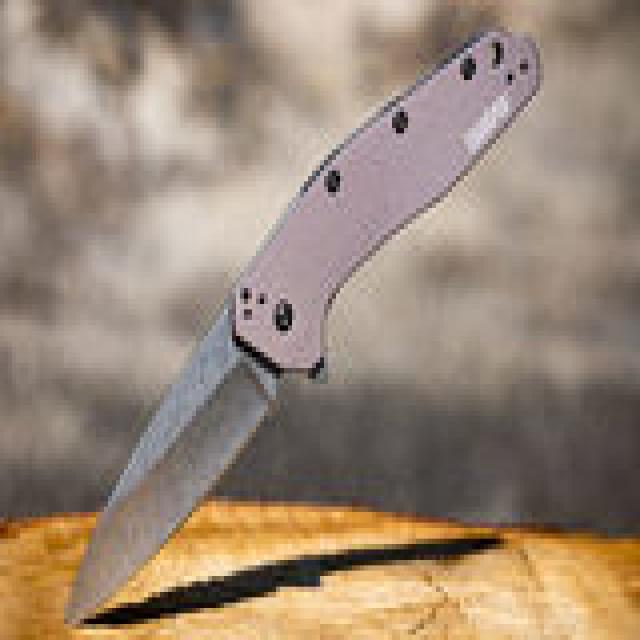Knife: (56, 27, 560, 629)
